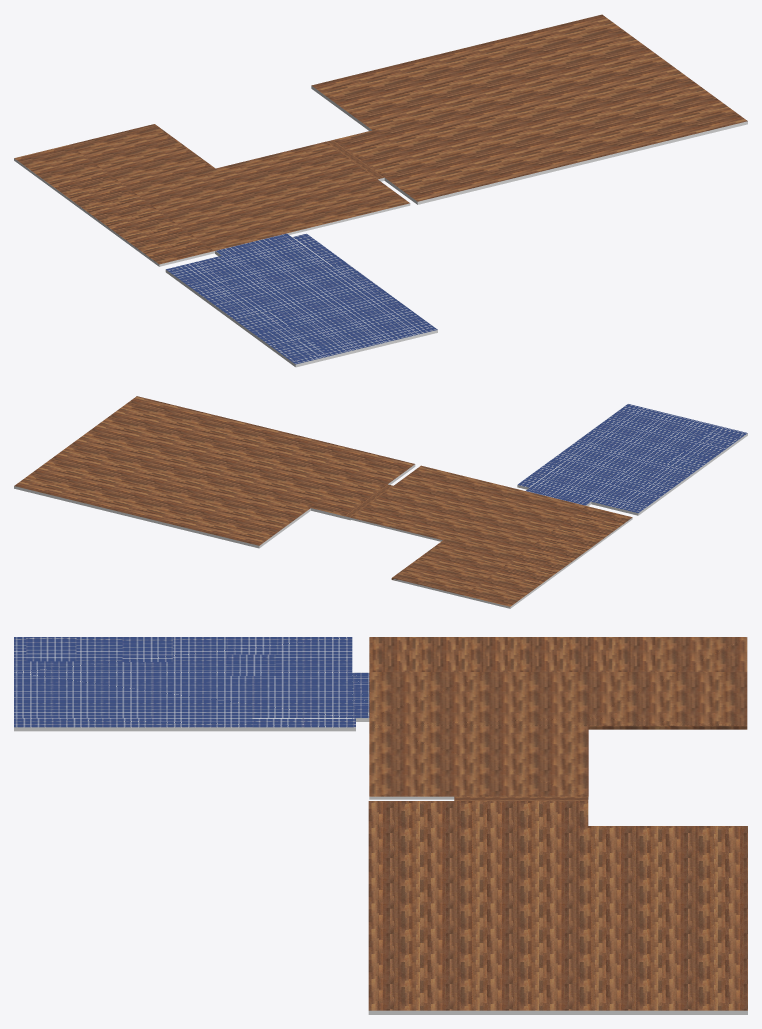
File: Floors.obj
3 views of the same model, one above another, from view 1: azimuth 30°, elevation 25°; view 2: azimuth 150°, elevation 25°; view 3: azimuth 270°, elevation 25° (orthographic). The views are drawn at different scales.
Visible parts, largest first — view 1: Kitchen_floor_Cube.006, Floor_Cube.001, bathroomFloor_Cube.002; view 2: Kitchen_floor_Cube.006, Floor_Cube.001, bathroomFloor_Cube.002; view 3: Kitchen_floor_Cube.006, Floor_Cube.001, bathroomFloor_Cube.002.
Boxes of the visible parts, box(x1,y1,x2,y2) form: Kitchen_floor_Cube.006: box(311, 14, 747, 204); Floor_Cube.001: box(14, 124, 410, 266); bathroomFloor_Cube.002: box(165, 233, 437, 367); Kitchen_floor_Cube.006: box(14, 396, 415, 548); Floor_Cube.001: box(350, 465, 632, 608); bathroomFloor_Cube.002: box(517, 404, 747, 515); Kitchen_floor_Cube.006: box(368, 796, 747, 1014); Floor_Cube.001: box(369, 637, 747, 799); bathroomFloor_Cube.002: box(14, 637, 369, 731).
Bounding box in the file's own units: 10.29 × 0.0532 × 8.54.
